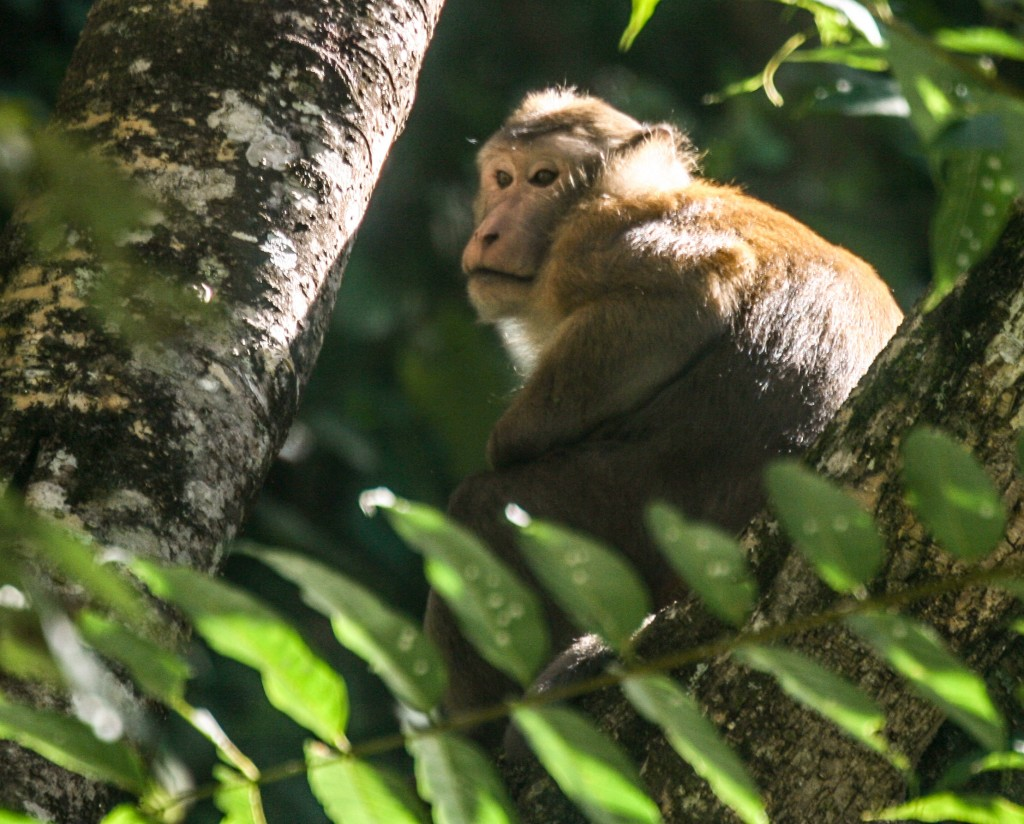monkey: (397, 67, 930, 733)
